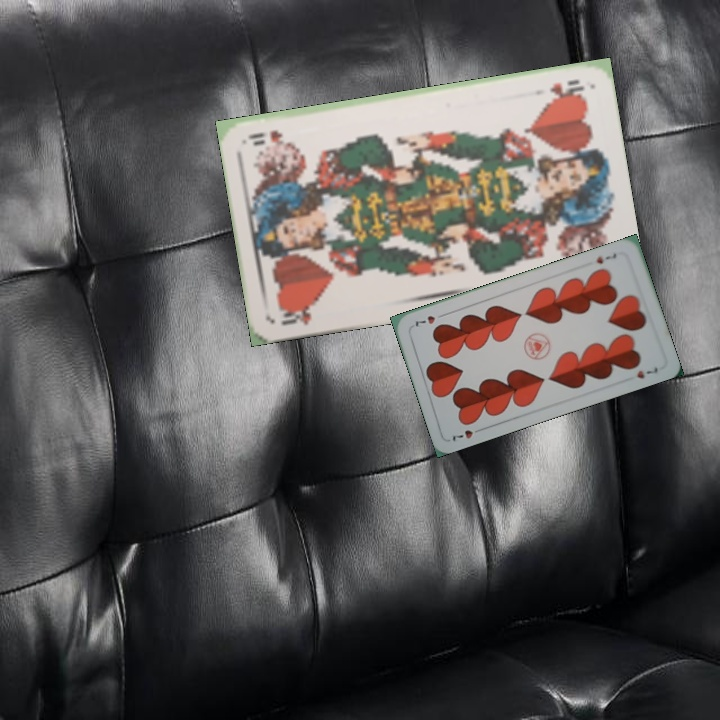H7: (448, 424, 486, 444), (592, 249, 619, 267)
HO: (276, 300, 319, 328), (546, 75, 587, 101)
